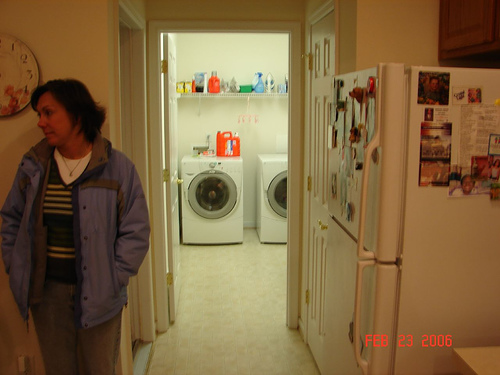without_mask: (31, 92, 85, 148)
